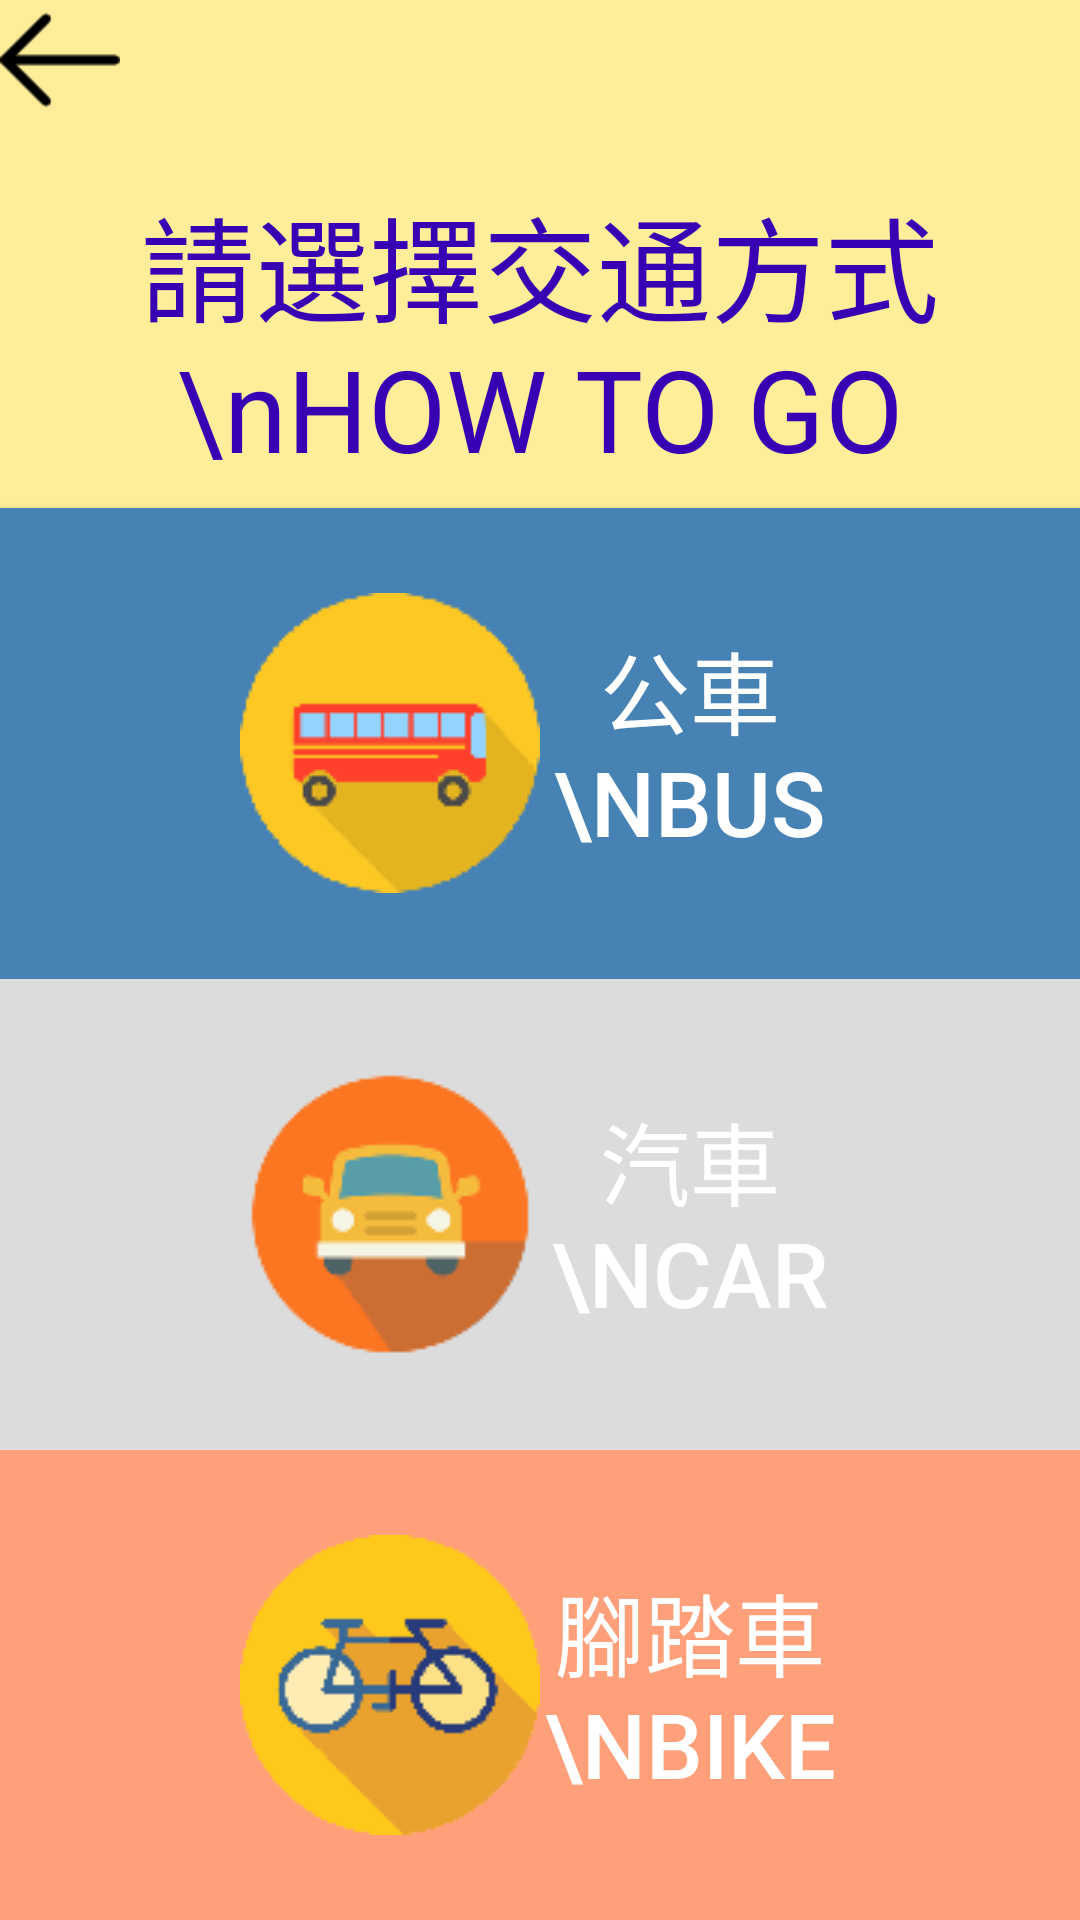

Icons on this 1080×1920 Android screen, each with the point to tap as [x,y]:
back: [60,60]
